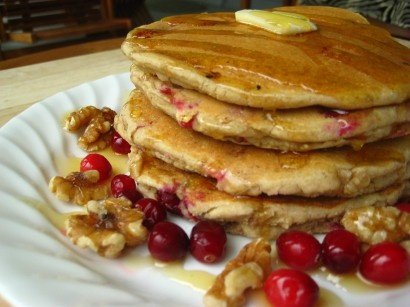background: (29, 2, 262, 147)
